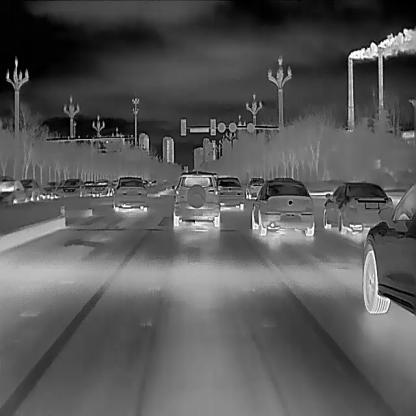car: (361, 178, 415, 317), (321, 180, 395, 234), (251, 176, 316, 236), (170, 172, 221, 229), (112, 176, 149, 212), (215, 175, 244, 209), (0, 178, 26, 206), (58, 177, 85, 197), (18, 177, 40, 201), (244, 177, 265, 199), (91, 177, 112, 198)
